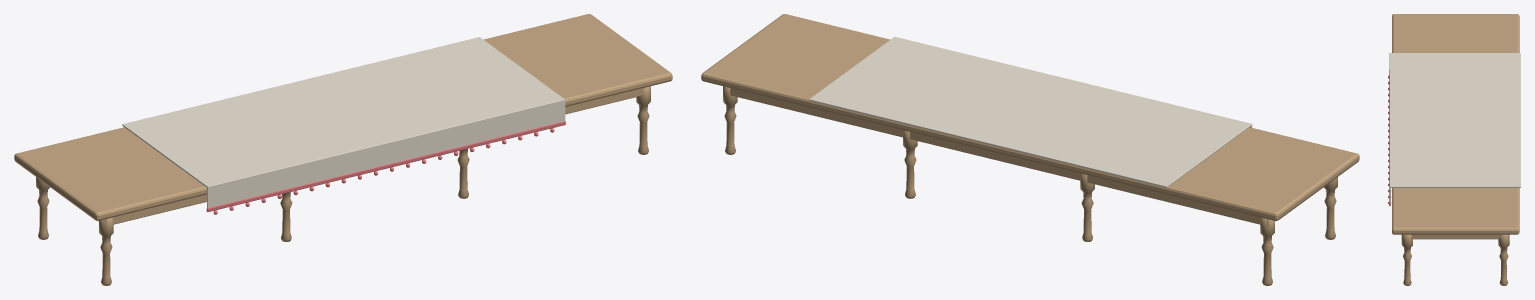
File: table.glb
The picture shows the model from 3 angles, left to right: view 1: azimuth 30°, elevation 25°; view 2: azimuth 150°, elevation 25°; view 3: azimuth 270°, elevation 25°; orthographic projection. The views are drawn at different scales.
Visible parts, largest first — view 1: table; view 2: table; view 3: table.
Part boxes in pixels (<box>): table: <box>14,14,672,285</box>; table: <box>701,14,1359,285</box>; table: <box>1388,14,1520,285</box>.
Bounding box in the file's own units: 7.2 × 1 × 1.87.
